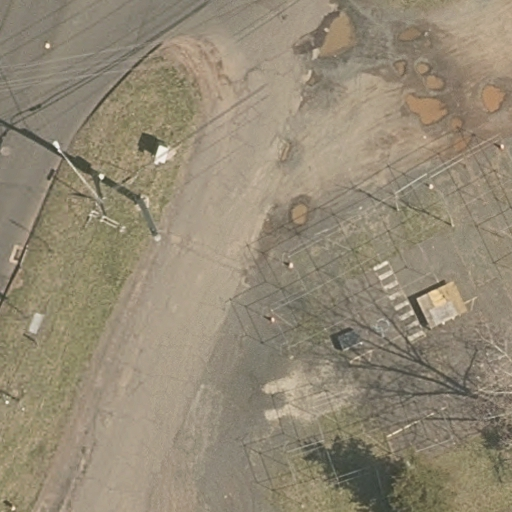DT: (68, 158, 139, 241)
